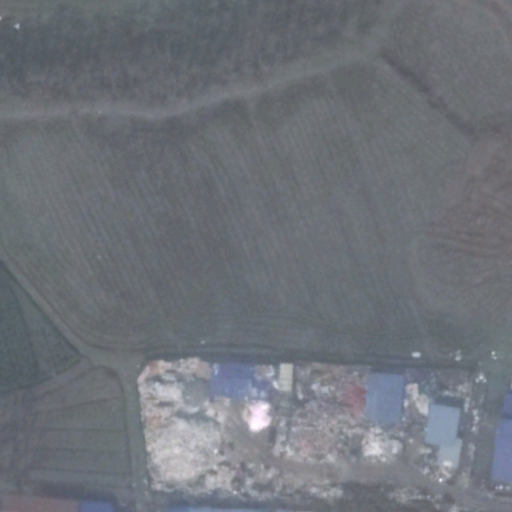msw: (139, 358, 443, 512)
